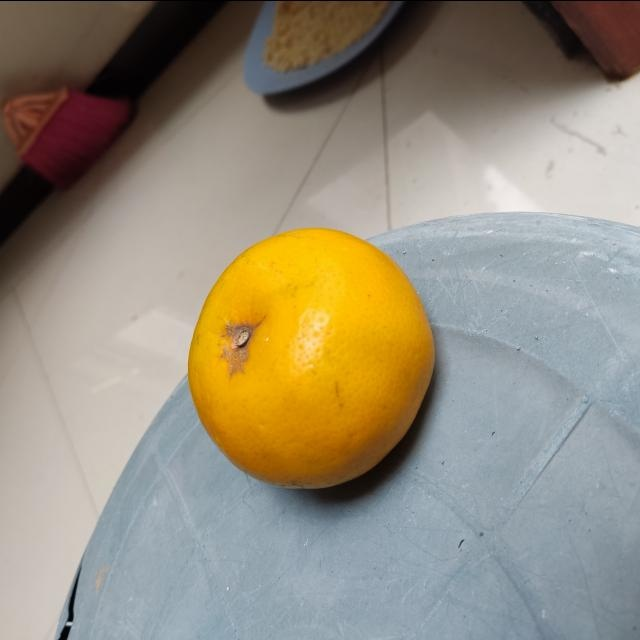agrume: (185, 225, 439, 487)
